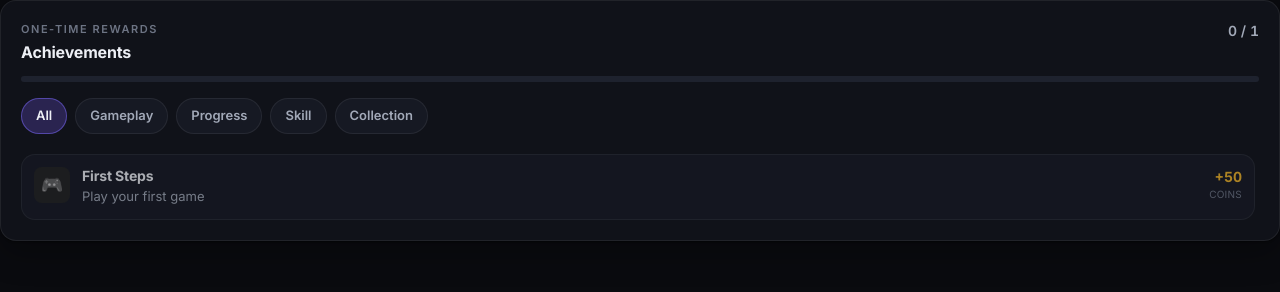
Test: AchievementPanel › shows the empty-category message when a filter matches nothing
Step 1. Click the button "Collection" → point(381, 116), box [334,98,428,134]
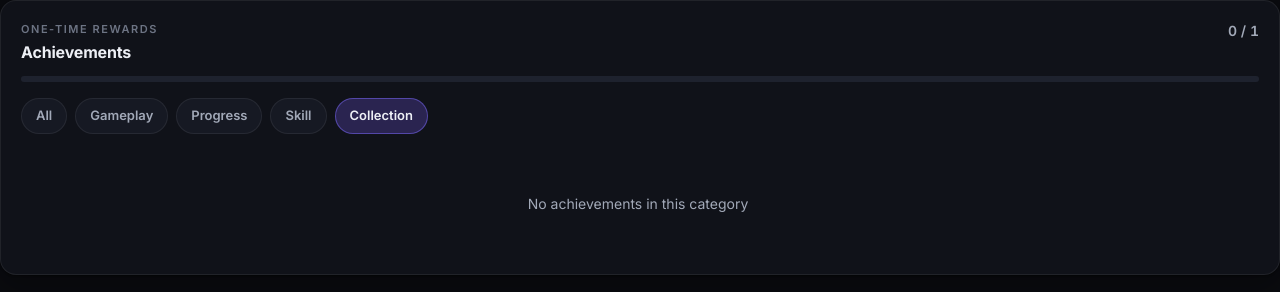
Expected: the text "No achievements in this category" is shown, [528,194,748,212]
